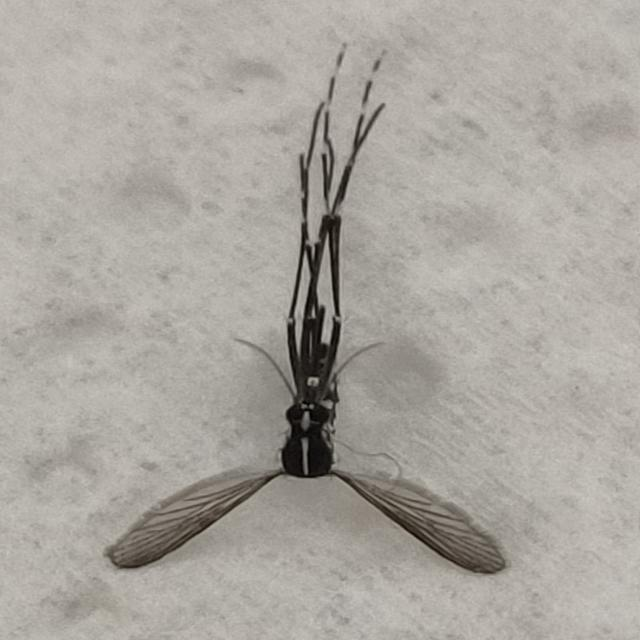albopictus: (90, 166, 524, 582)
